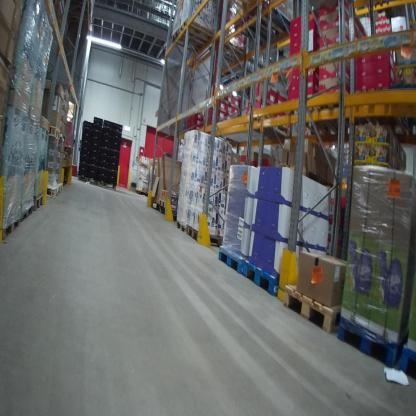pallet: (279, 277, 346, 333), (337, 313, 402, 368), (237, 0, 297, 41), (241, 257, 285, 297), (168, 22, 216, 53), (215, 242, 246, 276), (180, 17, 220, 42), (189, 224, 226, 247), (394, 346, 415, 378), (3, 211, 21, 239), (20, 198, 33, 224), (76, 171, 96, 185), (97, 178, 116, 192), (48, 120, 61, 140), (33, 191, 44, 213), (41, 184, 59, 197), (157, 197, 177, 208), (176, 219, 188, 235), (58, 181, 64, 193)
